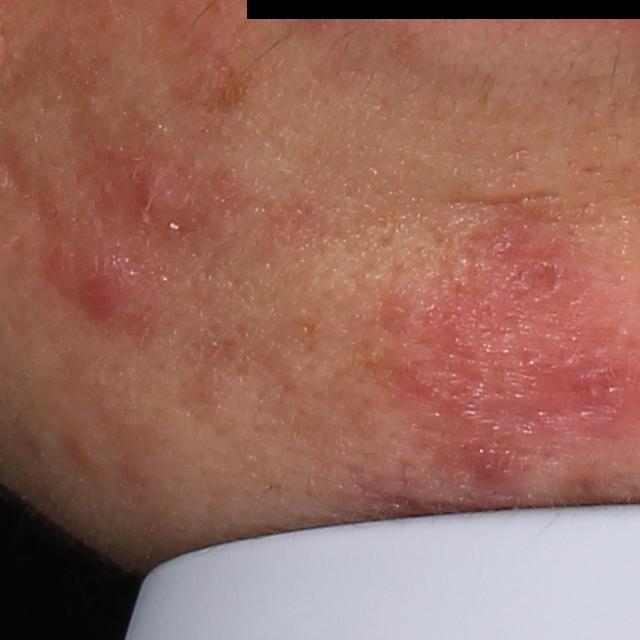papule: (72, 238, 139, 328), (125, 166, 185, 243)
